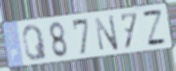7: (120, 10, 139, 51), (71, 18, 91, 56)
8: (48, 21, 69, 59)
N: (93, 13, 120, 52)
Q: (21, 23, 49, 62)
Z: (141, 9, 169, 47)
